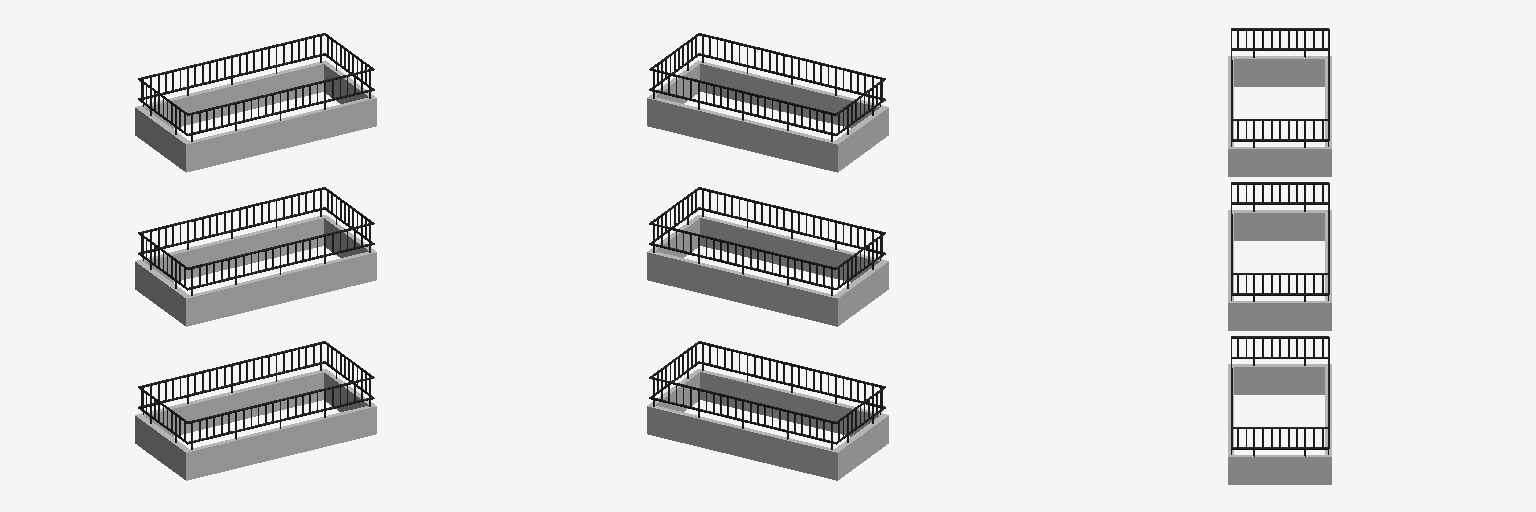
Rendered from balcones_1.obj.
The picture shows the model from 3 angles: view 1: azimuth 30°, elevation 25°; view 2: azimuth 150°, elevation 25°; view 3: azimuth 270°, elevation 25°; orthographic projection.
Visible parts, largest first — view 1: barrotes_Cylinder; view 2: barrotes_Cylinder; view 3: barrotes_Cylinder.
Part boxes in pixels (x1,y1,x2,y2): barrotes_Cylinder: (135,33,376,480); barrotes_Cylinder: (647,33,888,480); barrotes_Cylinder: (1228,28,1331,484).
Size of the model in its own units: 7.14 by 13.05 by 3.33.